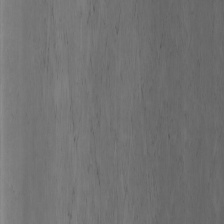silk_spot: (41, 6, 163, 202)
